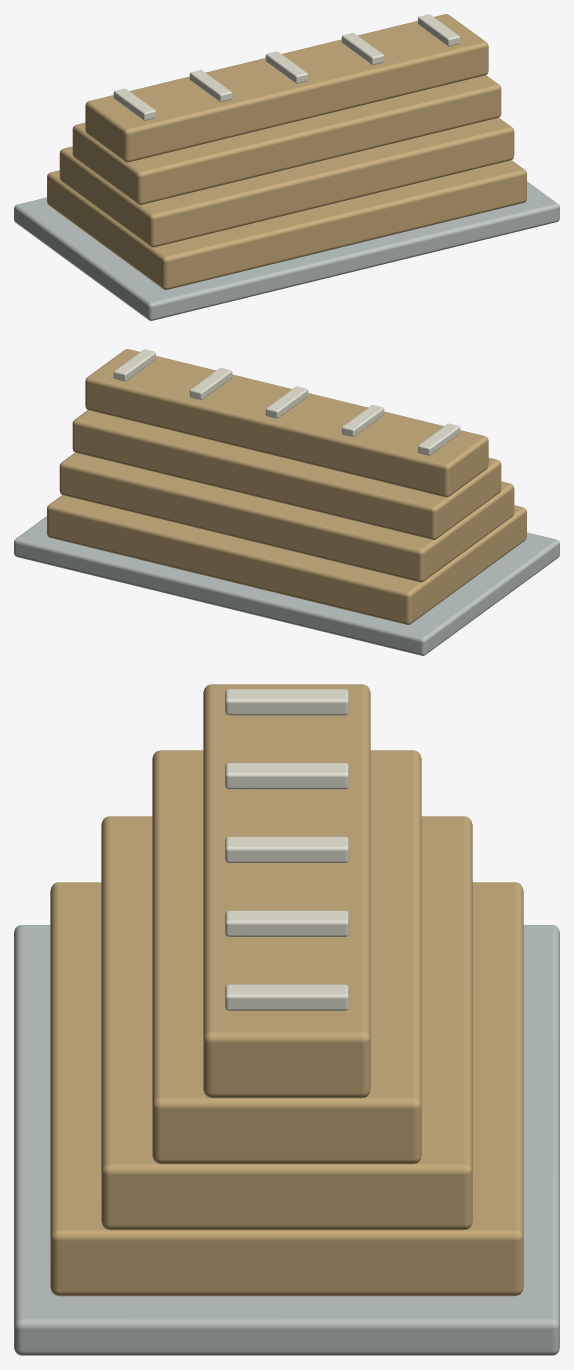
Rendered from abandoned-tidal-model-testing-hall-stepped-breakwater--9e05e616__32334.glb.
3 renders of one model, top to bottom at view 1: azimuth 30°, elevation 25°; view 2: azimuth 150°, elevation 25°; view 3: azimuth 270°, elevation 25°, orthographic. The views are drawn at different scales.
Parts seen in each view (by area): view 1: stepped-breakwater-test-segment; view 2: stepped-breakwater-test-segment; view 3: stepped-breakwater-test-segment.
Part boxes in pixels (<box>): stepped-breakwater-test-segment: <box>14,14,559,320</box>; stepped-breakwater-test-segment: <box>14,349,559,655</box>; stepped-breakwater-test-segment: <box>14,684,559,1355</box>.
Size of the model in its own units: 1.3 by 0.48 by 0.7501.
